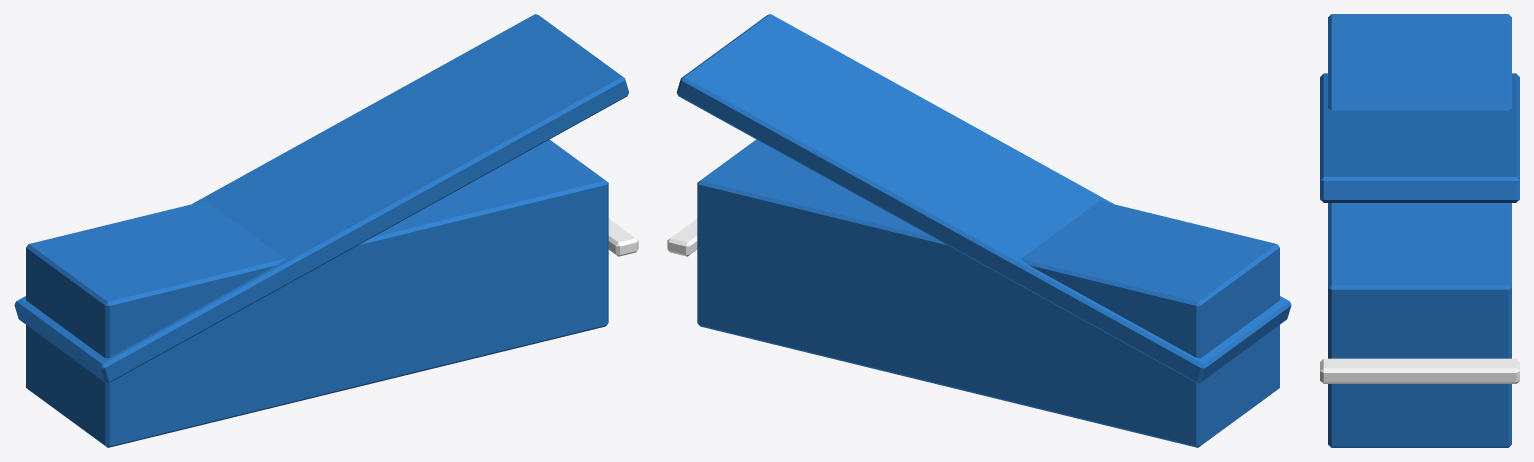
The model's file is ramp_long.glb.
3 views of the same model, side by side, from view 1: azimuth 30°, elevation 25°; view 2: azimuth 150°, elevation 25°; view 3: azimuth 270°, elevation 25° (orthographic). The views are drawn at different scales.
Parts seen in each view (by area): view 1: ramp_long; view 2: ramp_long; view 3: ramp_long.
Boxes of the visible parts, left/top/right/bottom form: ramp_long: left=14, top=14, right=638, bottom=447; ramp_long: left=667, top=14, right=1291, bottom=447; ramp_long: left=1320, top=14, right=1519, bottom=447.
Size of the model in its own units: 1.18 by 0.5219 by 0.34.
